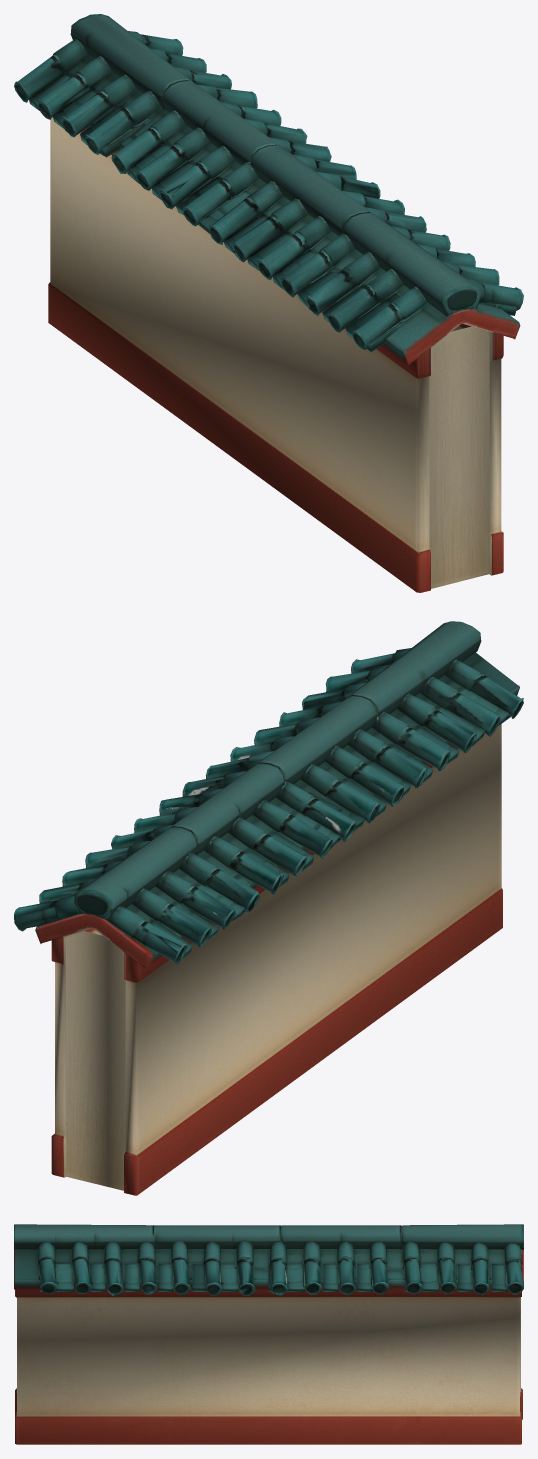
Rendered from tripo_convert_1d1ce0ab-4c21-4f4d-a75a-e654f5d73c7f.fbx.
The picture shows the model from 3 angles, top to bottom: view 1: azimuth 30°, elevation 25°; view 2: azimuth 150°, elevation 25°; view 3: azimuth 270°, elevation 25°; orthographic projection. The views are drawn at different scales.
Parts seen in each view (by area): view 1: tripo_node_1d1ce0ab; view 2: tripo_node_1d1ce0ab; view 3: tripo_node_1d1ce0ab.
Boxes of the visible parts, x1,y1,x2,y2 form: tripo_node_1d1ce0ab: (14,14,523,592); tripo_node_1d1ce0ab: (14,621,523,1195); tripo_node_1d1ce0ab: (14,1224,523,1444).
Size of the model in its own units: 0.2598 by 0.4395 by 0.998.
Materials: 1 (1 with a texture image).
